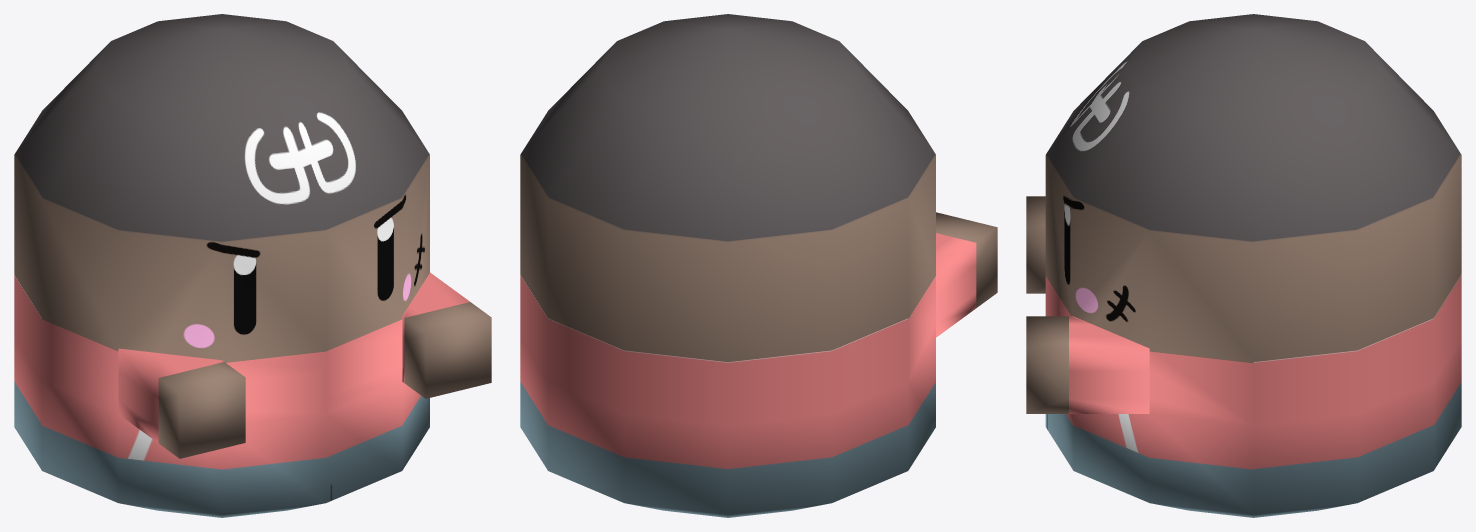
Rendered from pirate 2.fbx.
3 renders of one model, left to right at view 1: azimuth 30°, elevation 25°; view 2: azimuth 150°, elevation 25°; view 3: azimuth 270°, elevation 25°, orthographic.
Visible parts, largest first — view 1: Sphere; view 2: Sphere; view 3: Sphere.
Boxes of the visible parts, left/top/right/bottom form: Sphere: left=14, top=14, right=491, bottom=517; Sphere: left=520, top=14, right=997, bottom=517; Sphere: left=1026, top=14, right=1461, bottom=517.
Bounding box in the file's own units: 190 × 225 × 199.
1 material, 1 textured.
